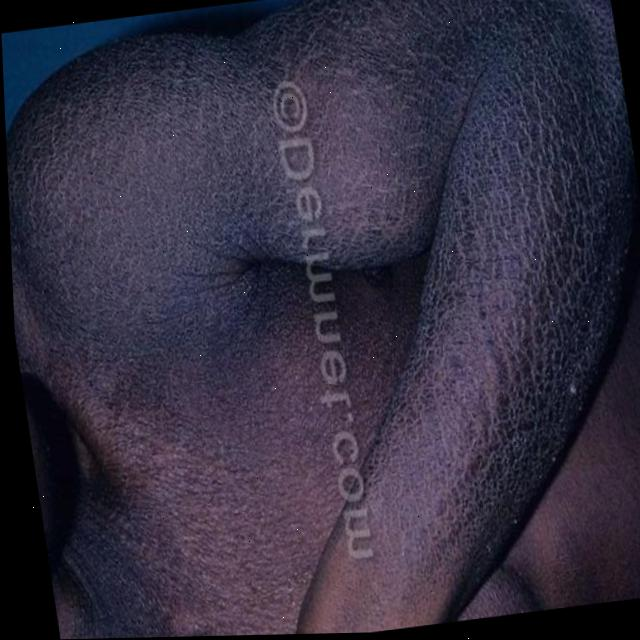Eczema: (12, 0, 608, 562)
